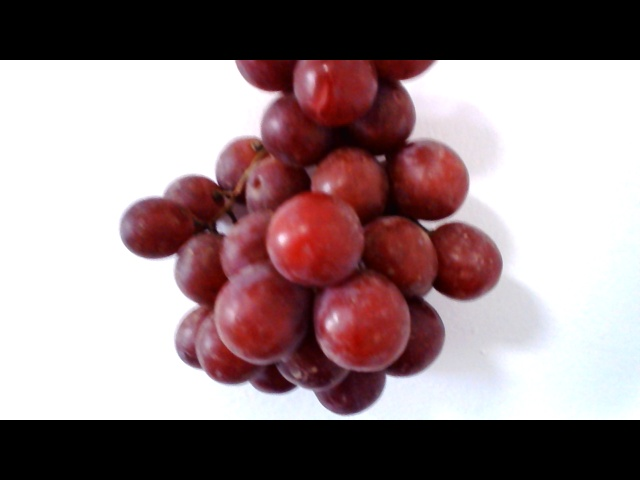grape: (132, 69, 507, 410)
